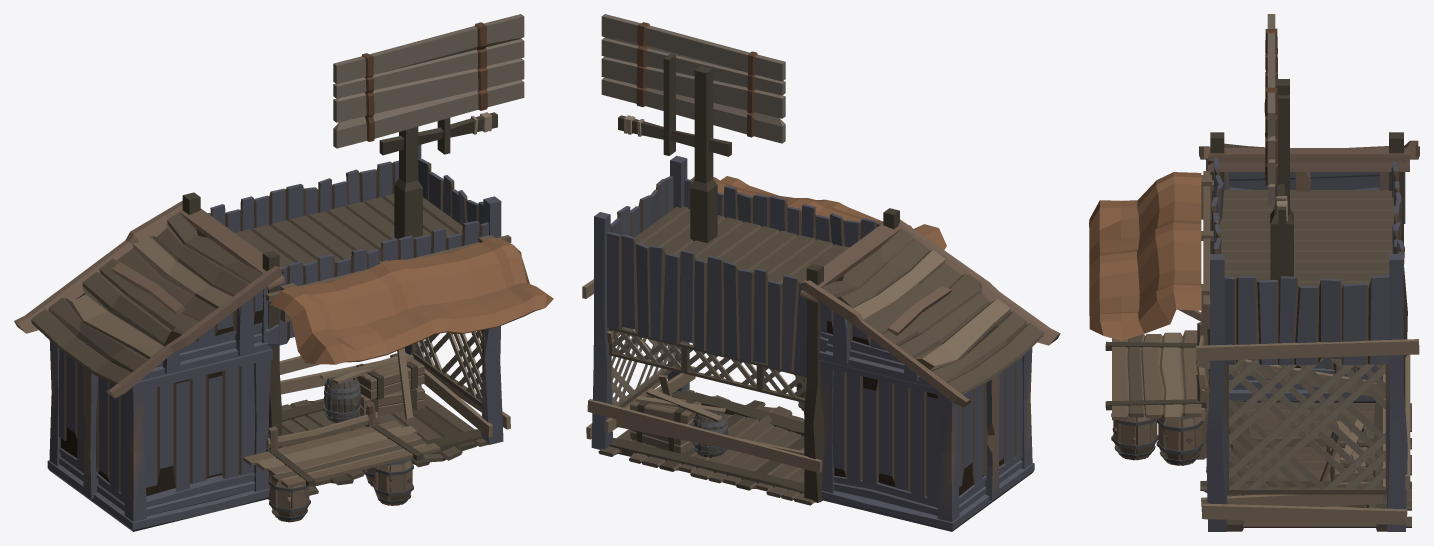
The model's file is SM_Bld_Shop_02.glb.
3 renders of one model, left to right at view 1: azimuth 30°, elevation 25°; view 2: azimuth 150°, elevation 25°; view 3: azimuth 270°, elevation 25°, orthographic. The views are drawn at different scales.
Visible parts, largest first — view 1: SM_Bld_Shop_02; view 2: SM_Bld_Shop_02; view 3: SM_Bld_Shop_02.
Part boxes in pixels (x1=…): SM_Bld_Shop_02: x1=14, y1=14, x2=553, y2=531; SM_Bld_Shop_02: x1=582, y1=14, x2=1060, y2=531; SM_Bld_Shop_02: x1=1089, y1=14, x2=1419, y2=531.
Bounding box in the file's own units: 0.0786 × 0.0683 × 0.0451.
